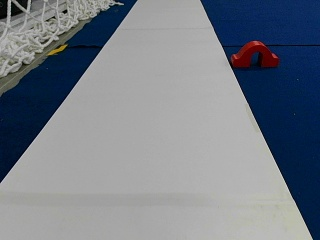bridge: (232, 41, 278, 66)
